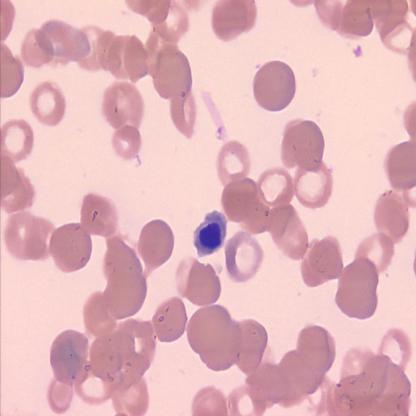NRC: (193, 208, 228, 260)
